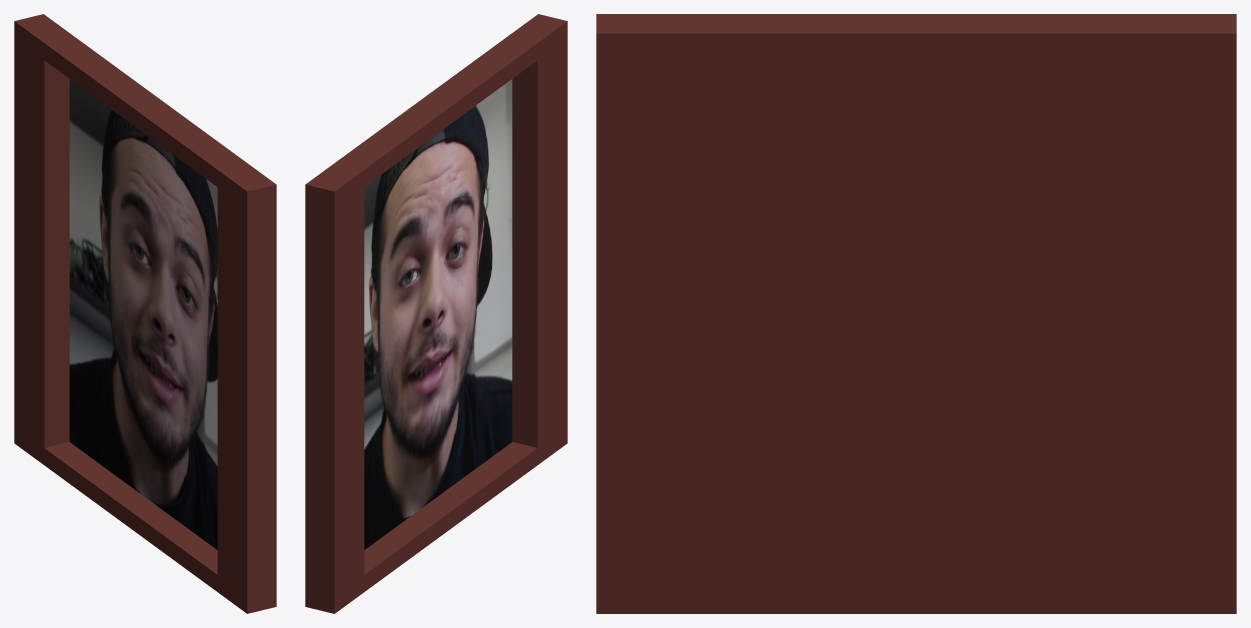
The model's file is Portrait8.fbx.
3 renders of one model, left to right at view 1: azimuth 30°, elevation 25°; view 2: azimuth 150°, elevation 25°; view 3: azimuth 270°, elevation 25°, orthographic. The views are drawn at different scales.
Parts seen in each view (by area): view 1: Cube.105; view 2: Cube.105; view 3: Cube.105.
Part boxes in pixels (box(x1,y1,x2,y2)): Cube.105: box(14, 14, 276, 613); Cube.105: box(305, 14, 567, 613); Cube.105: box(596, 14, 1236, 613).
Size of the model in its own units: 26.75 by 369 by 369.
